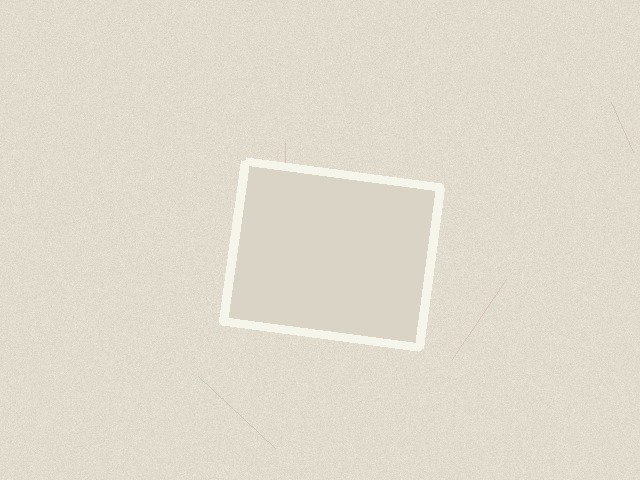parking_area: (223, 161, 440, 347)
